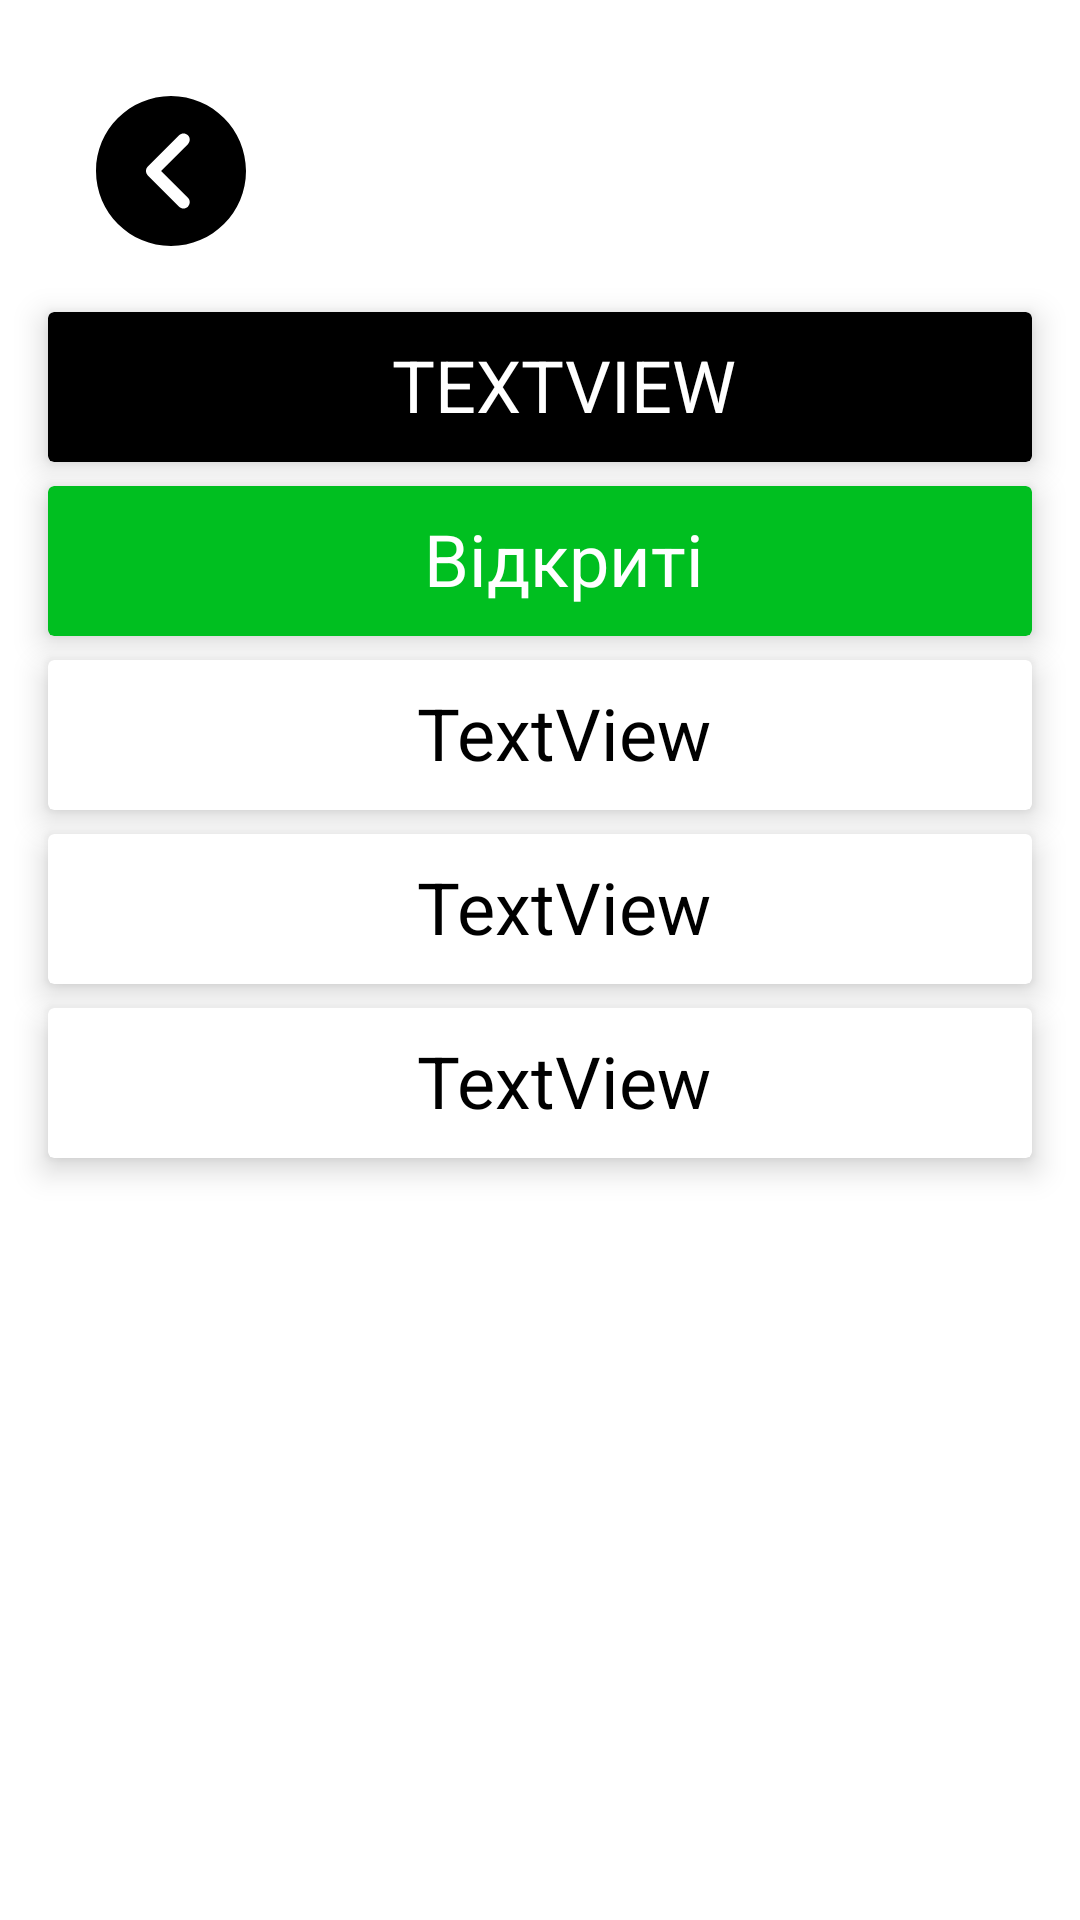

Icon click points for this 1080px×1920px phone screenshot, format (x=x, y=y):
left arrow: (x=171, y=171)
